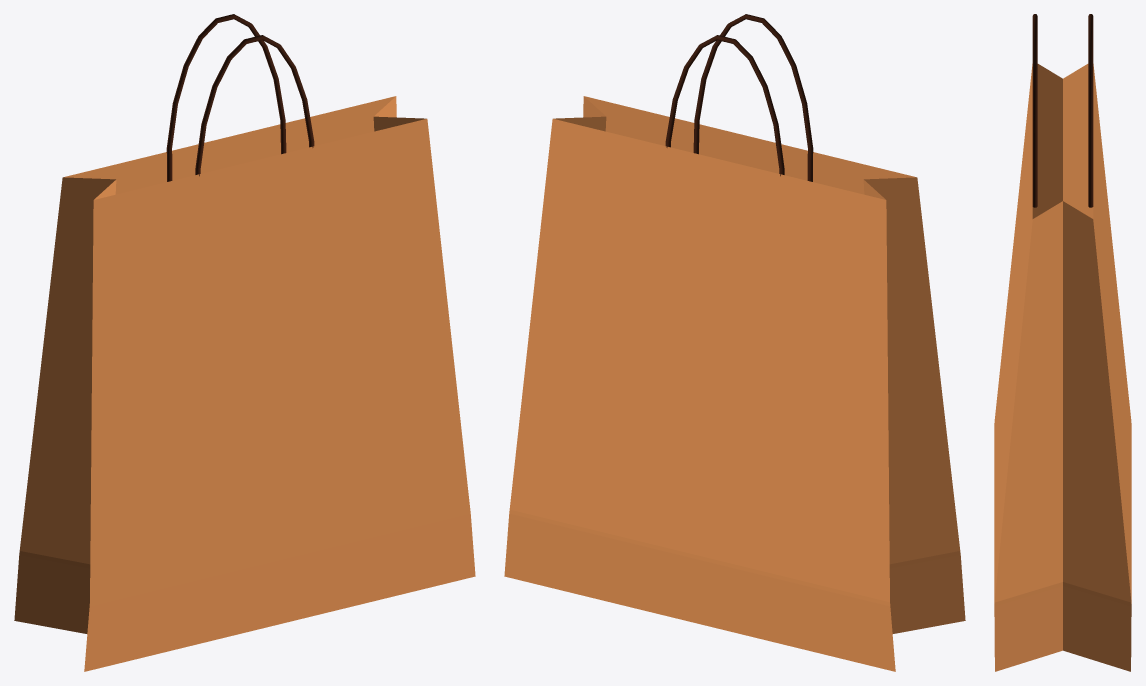
Rendered from Paper Bag.fbx.
3 renders of one model, left to right at view 1: azimuth 30°, elevation 25°; view 2: azimuth 150°, elevation 25°; view 3: azimuth 270°, elevation 25°, orthographic. The views are drawn at different scales.
Visible parts, largest first — view 1: Node 0; view 2: Node 0; view 3: Node 0.
Part boxes in pixels (bbox=[...]): Node 0: bbox=[14, 14, 475, 671]; Node 0: bbox=[504, 14, 965, 671]; Node 0: bbox=[994, 14, 1131, 671].
Bounding box in the file's own units: 0.1493 × 0.6704 × 0.4793.
